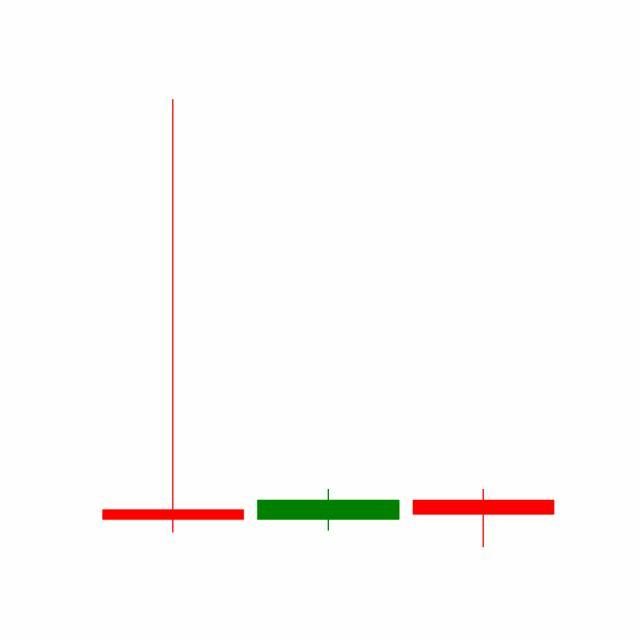Marubozu: (250, 489, 407, 532)
